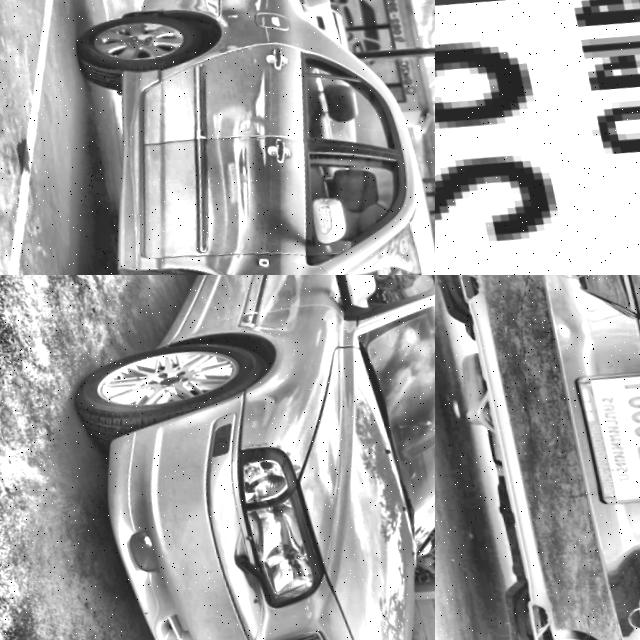license-plate: (435, 0, 640, 275), (559, 358, 640, 510)
